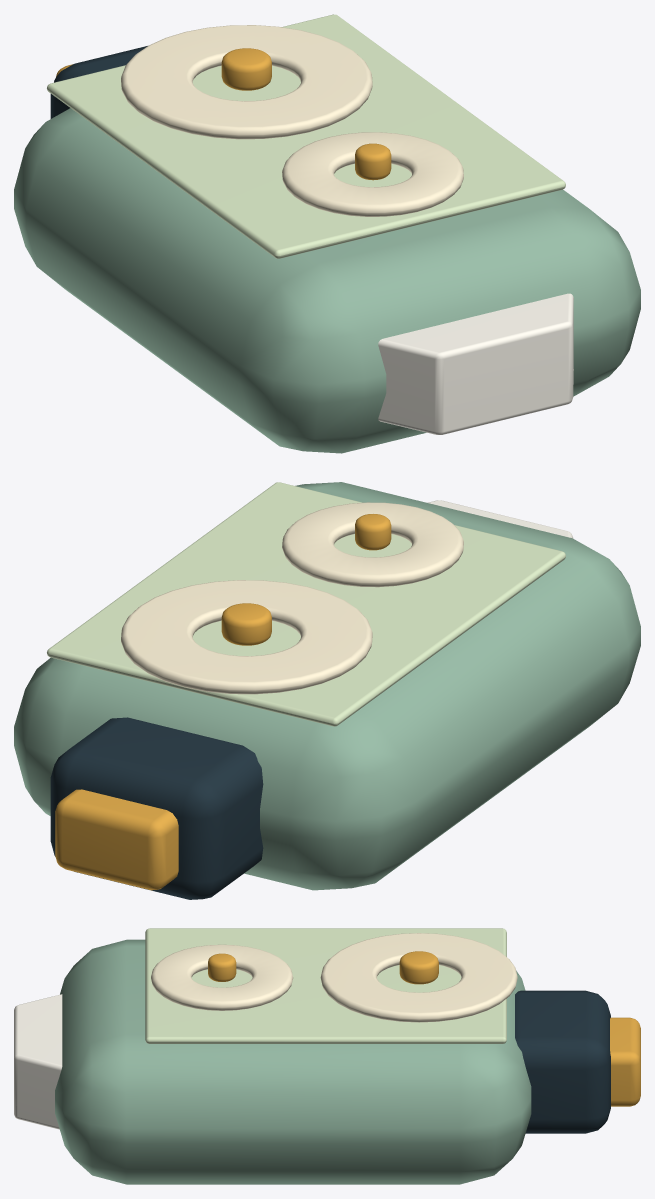
Rendered from part_correction_tape.glb.
The picture shows the model from 3 angles, top to bottom: view 1: azimuth 30°, elevation 25°; view 2: azimuth 150°, elevation 25°; view 3: azimuth 270°, elevation 25°; orthographic projection. The views are drawn at different scales.
Parts seen in each view (by area): view 1: Rounded correction case, Clear reel window, Correction dispensing nose, Exposed tape reel, Exposed tape reel.001, Reel axle, Universal rubber mounting pad.009, Reel axle.001; view 2: Rounded correction case, Clear reel window, Universal rubber mounting pad.009, Exposed tape reel, Exposed tape reel.001, Snap-in brass tongue.009, Reel axle, Reel axle.001, Correction dispensing nose; view 3: Rounded correction case, Clear reel window, Universal rubber mounting pad.009, Exposed tape reel, Exposed tape reel.001, Correction dispensing nose, Snap-in brass tongue.009, Reel axle, Reel axle.001.
Part boxes in pixels (<box>): Rounded correction case: <box>14,108,640,453</box>; Clear reel window: <box>47,14,565,258</box>; Correction dispensing nose: <box>378,293,573,434</box>; Exposed tape reel: <box>121,25,372,139</box>; Exposed tape reel.001: <box>282,132,463,216</box>; Reel axle: <box>221,48,271,90</box>; Universal rubber mounting pad.009: <box>50,46,147,118</box>; Reel axle.001: <box>355,143,391,180</box>; Rounded correction case: <box>14,482,640,890</box>; Clear reel window: <box>47,482,565,726</box>; Universal rubber mounting pad.009: <box>50,717,263,899</box>; Exposed tape reel: <box>121,580,372,694</box>; Exposed tape reel.001: <box>282,502,463,587</box>; Snap-in brass tongue.009: <box>55,789,178,890</box>; Reel axle: <box>221,603,271,645</box>; Reel axle.001: <box>355,514,391,550</box>; Correction dispensing nose: <box>427,500,573,538</box>; Rounded correction case: <box>55,939,531,1184</box>; Clear reel window: <box>145,928,506,1043</box>; Universal rubber mounting pad.009: <box>515,990,610,1133</box>; Exposed tape reel: <box>320,933,517,1022</box>; Exposed tape reel.001: <box>151,944,293,1010</box>; Correction dispensing nose: <box>14,994,62,1129</box>; Snap-in brass tongue.009: <box>610,1017,640,1106</box>; Reel axle: <box>399,951,438,984</box>; Reel axle.001: <box>208,953,236,981</box>.
Size of the model in its own units: 0.0128 by 0.0071 by 0.0229.
